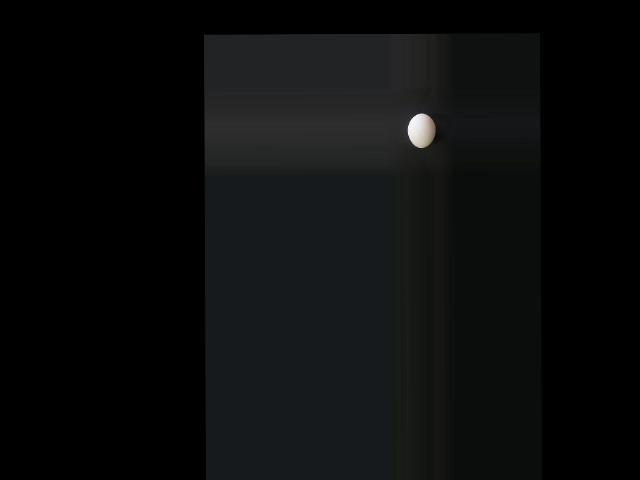egg: (407, 114, 435, 148)
